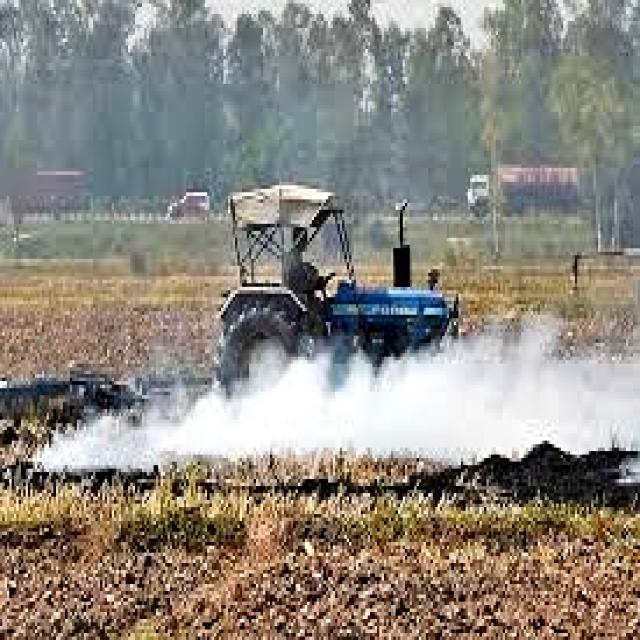no_helmet: (45, 354, 638, 470)
